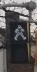walk: (8, 20, 31, 41)
